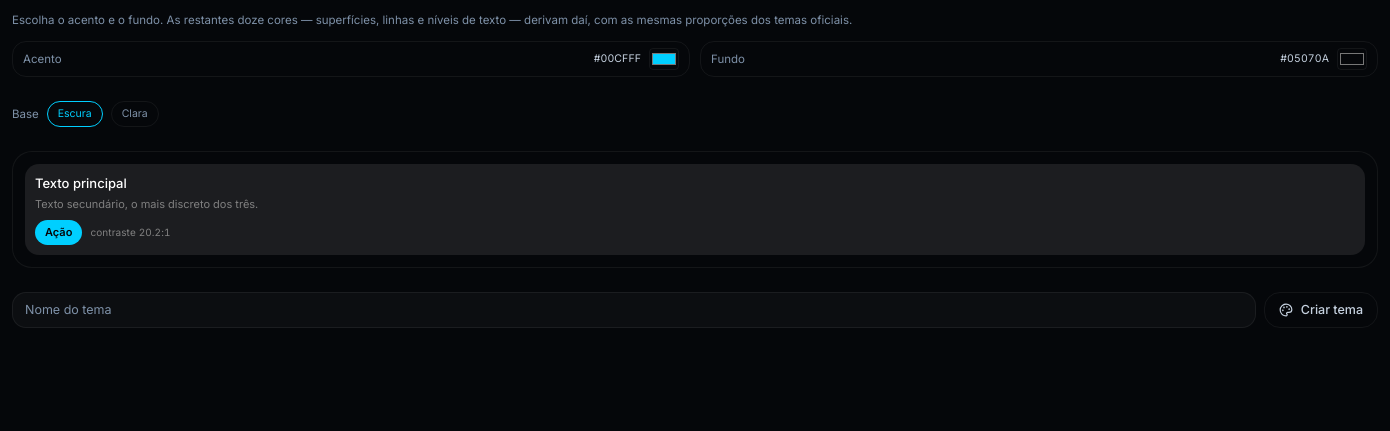
it: criar › guarda o tema e aplica-o de imediato
This screenshot has width=1390, height=431.
Type "O meu azul" into the field with placeholder "Nome do tema" at (634, 310), box top-left (12, 292), bottom-right (1256, 328)
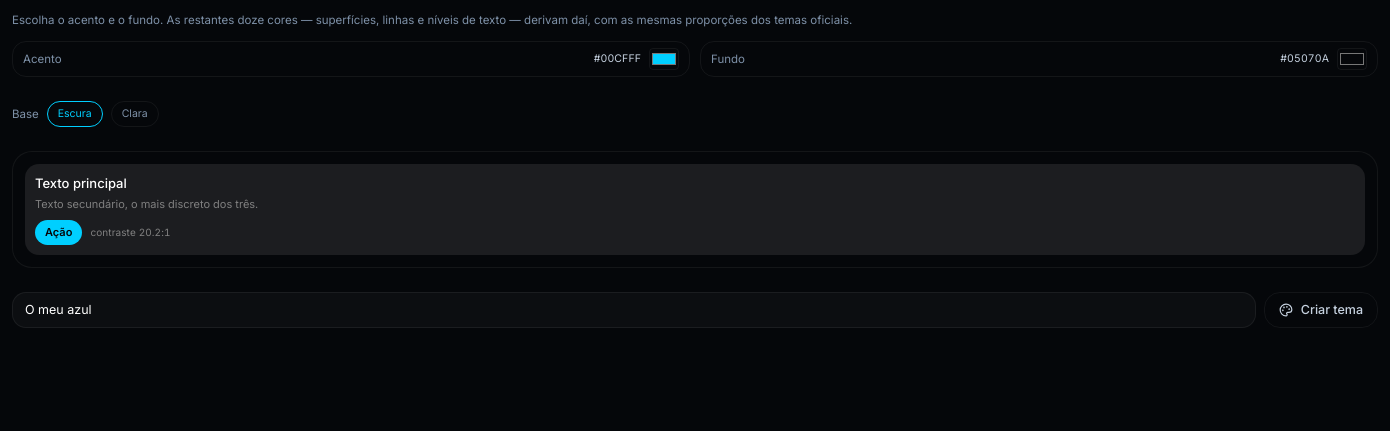
Click the button "Criar tema" at (1321, 310), box top-left (1264, 292), bottom-right (1378, 328)
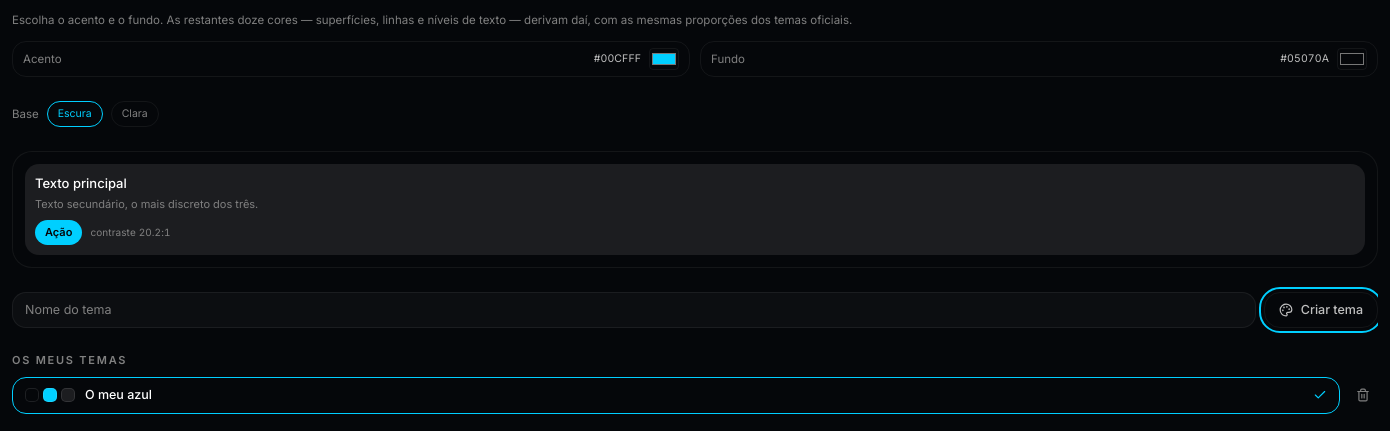
Expected: the text "O meu azul" is shown, top-left (85, 387), bottom-right (152, 402)
